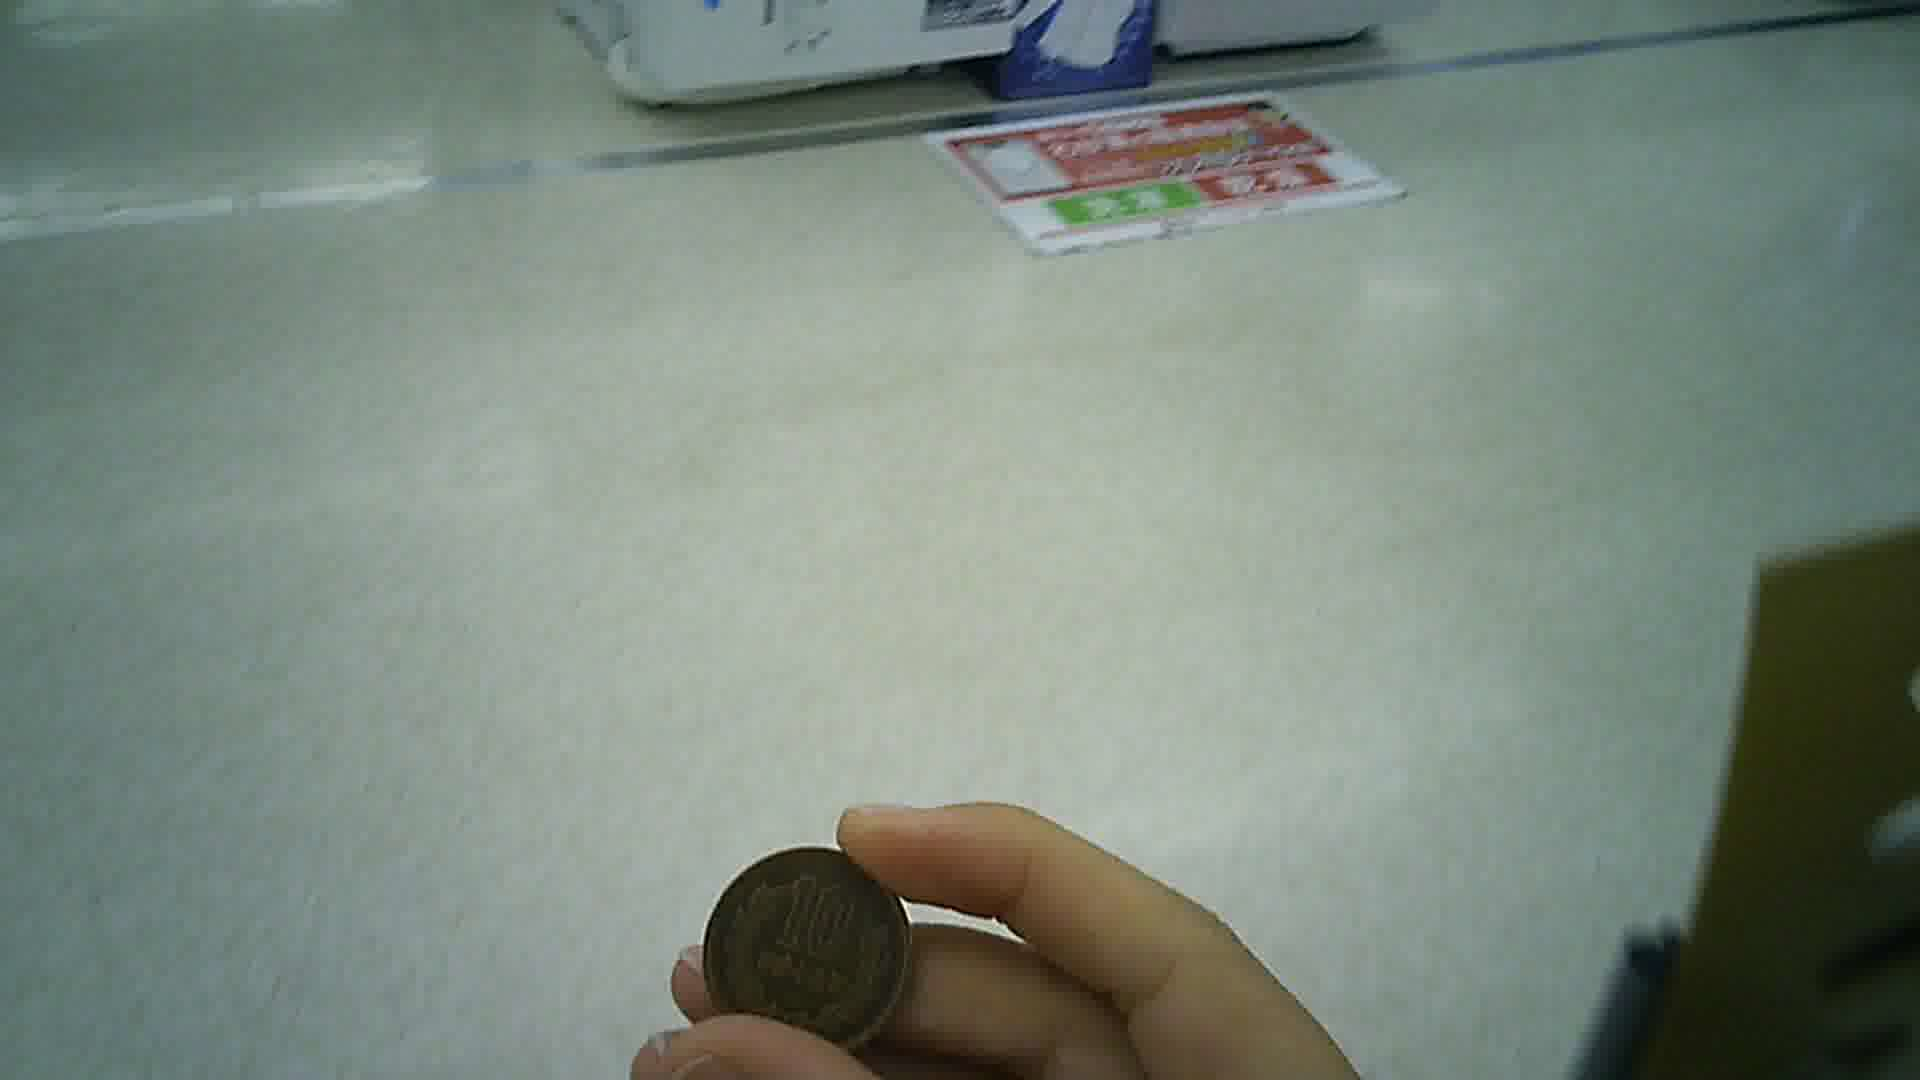10 Yen: (694, 837, 913, 1054)
